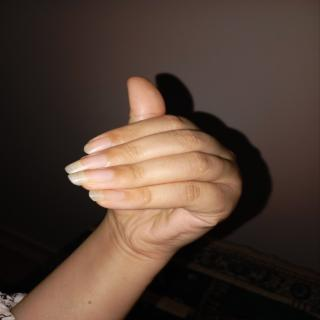KHAA: (54, 77, 248, 274)
